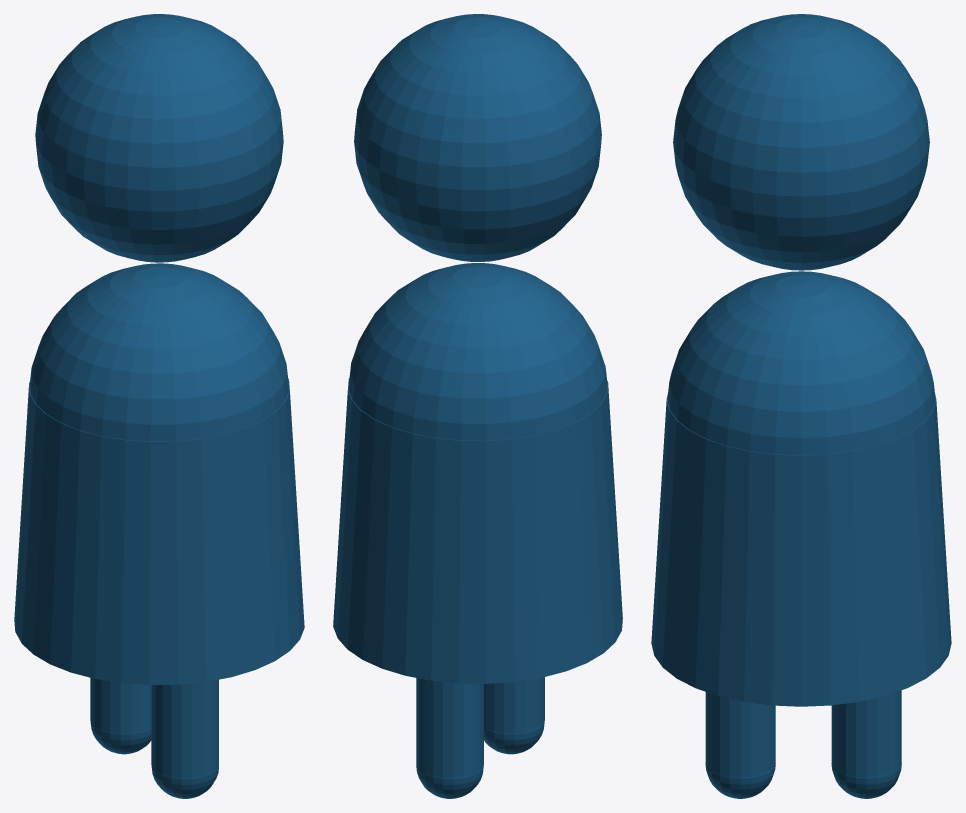
The model's file is YOU.fbx.
3 views of the same model, side by side, from view 1: azimuth 30°, elevation 25°; view 2: azimuth 150°, elevation 25°; view 3: azimuth 270°, elevation 25° (orthographic). The views are drawn at different scales.
Parts seen in each view (by area): view 1: Sphere.001; view 2: Sphere.001; view 3: Sphere.001.
Part boxes in pixels (x1,y1,x2,y2): Sphere.001: [14, 14, 304, 798]; Sphere.001: [333, 14, 622, 798]; Sphere.001: [651, 14, 951, 798].
Size of the model in its own units: 160 by 453 by 160.
